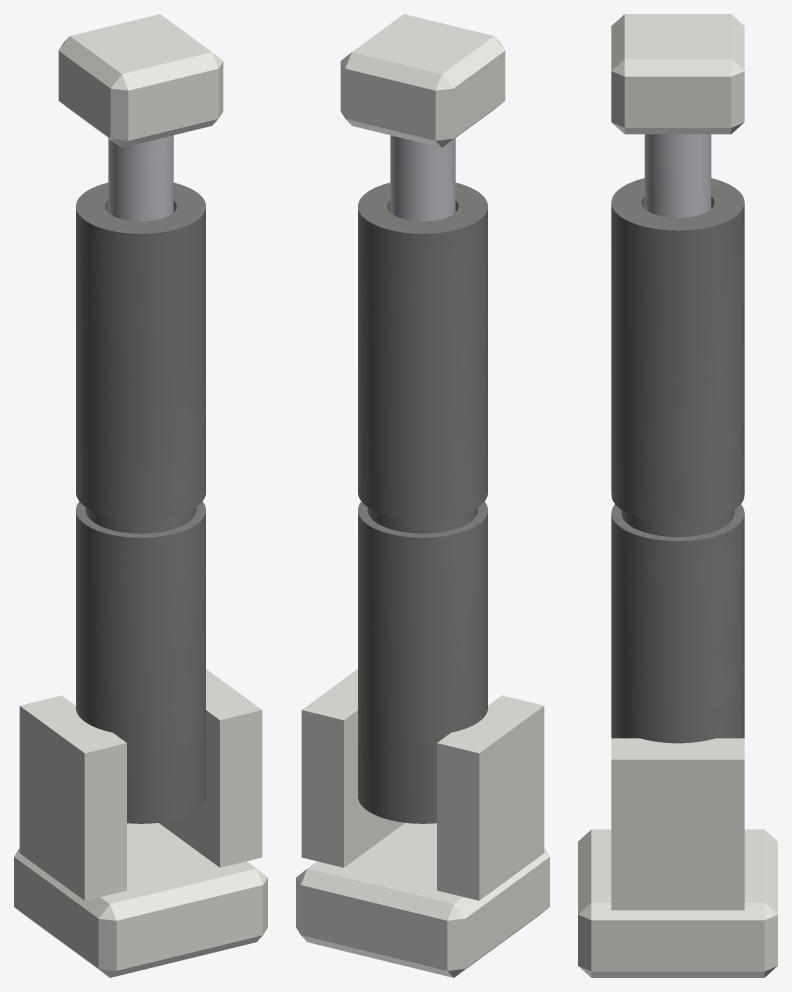
The model's file is ax_util_14_linear_actuator_s.glb.
3 views of the same model, side by side, from view 1: azimuth 30°, elevation 25°; view 2: azimuth 150°, elevation 25°; view 3: azimuth 270°, elevation 25° (orthographic). The views are drawn at different scales.
Visible parts, largest first — view 1: cylinder, base_clevis, rod_eye, rod; view 2: cylinder, base_clevis, rod_eye, rod; view 3: cylinder, base_clevis, rod_eye, rod.
Boxes of the visible parts, bbox=[...] form: cylinder: bbox=[76, 182, 205, 823]; base_clevis: bbox=[14, 669, 267, 977]; rod_eye: bbox=[58, 14, 223, 147]; rod: bbox=[108, 135, 173, 221]; cylinder: bbox=[358, 182, 487, 823]; base_clevis: bbox=[296, 669, 549, 977]; rod_eye: bbox=[340, 14, 505, 147]; rod: bbox=[390, 135, 455, 221]; cylinder: bbox=[611, 178, 744, 743]; base_clevis: bbox=[578, 738, 777, 977]; rod_eye: bbox=[611, 14, 744, 134]; rod: bbox=[644, 134, 711, 217].
Bounding box in the file's own units: 0.126 × 0.6 × 0.12.
3 materials, 2 textured.
